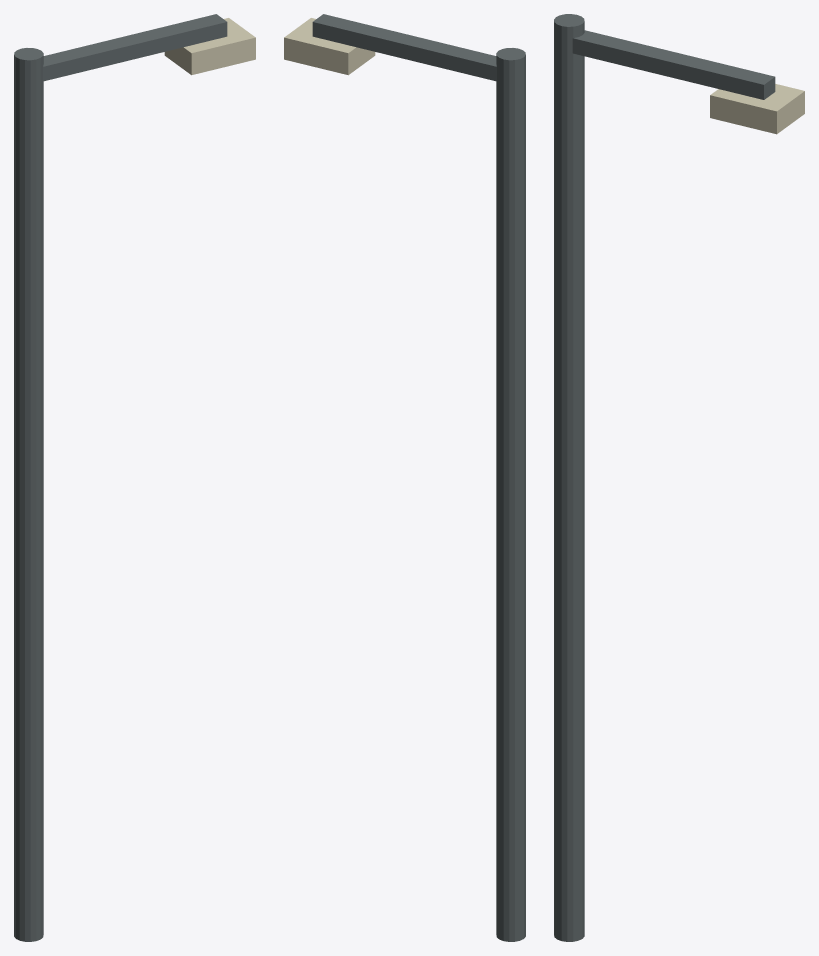
File: street_lamp.glb
3 renders of one model, left to right at view 1: azimuth 30°, elevation 25°; view 2: azimuth 150°, elevation 25°; view 3: azimuth 330°, elevation 25°, orthographic. The views are drawn at different scales.
Parts seen in each view (by area): view 1: m0, m1, m2; view 2: m0, m1, m2; view 3: m0, m1, m2.
Boxes of the visible parts, left/top/right/bottom form: m0: left=14, top=48, right=43, bottom=941; m1: left=43, top=14, right=227, bottom=81; m2: left=164, top=18, right=255, bottom=75; m0: left=496, top=48, right=525, bottom=941; m1: left=312, top=14, right=496, bottom=81; m2: left=284, top=18, right=375, bottom=75; m0: left=554, top=14, right=584, bottom=941; m1: left=572, top=30, right=775, bottom=99; m2: left=710, top=84, right=804, bottom=134.
Size of the model in its own units: 1.94 by 7.2 by 0.4.
